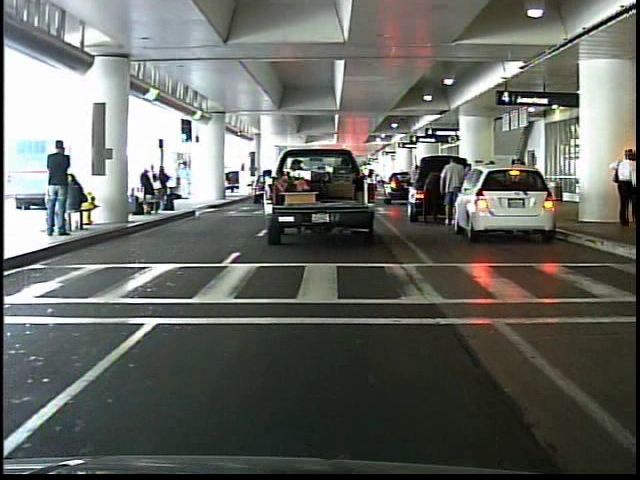person: (44, 136, 79, 241), (603, 149, 639, 236), (438, 154, 466, 229), (176, 160, 194, 202)
